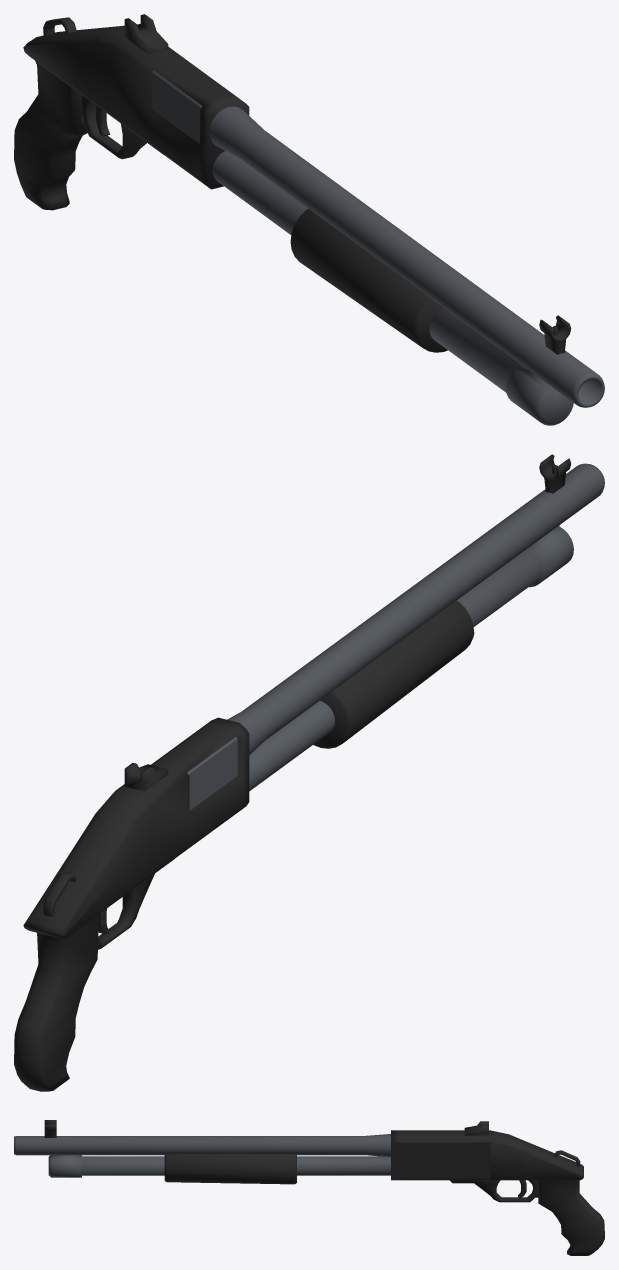
File: cruiser.glb
3 renders of one model, top to bottom at view 1: azimuth 30°, elevation 25°; view 2: azimuth 150°, elevation 25°; view 3: azimuth 270°, elevation 25°, orthographic. The views are drawn at different scales.
Parts seen in each view (by area): view 1: cruiser; view 2: cruiser; view 3: cruiser.
Boxes of the visible parts, box(x1,y1,x2,y2) form: cruiser: box(14, 14, 604, 425); cruiser: box(14, 454, 604, 1091); cruiser: box(14, 1120, 604, 1255).
Bounding box in the file's own units: 0.045 × 0.1761 × 0.725.
Materials: 5 (5 with a texture image).
